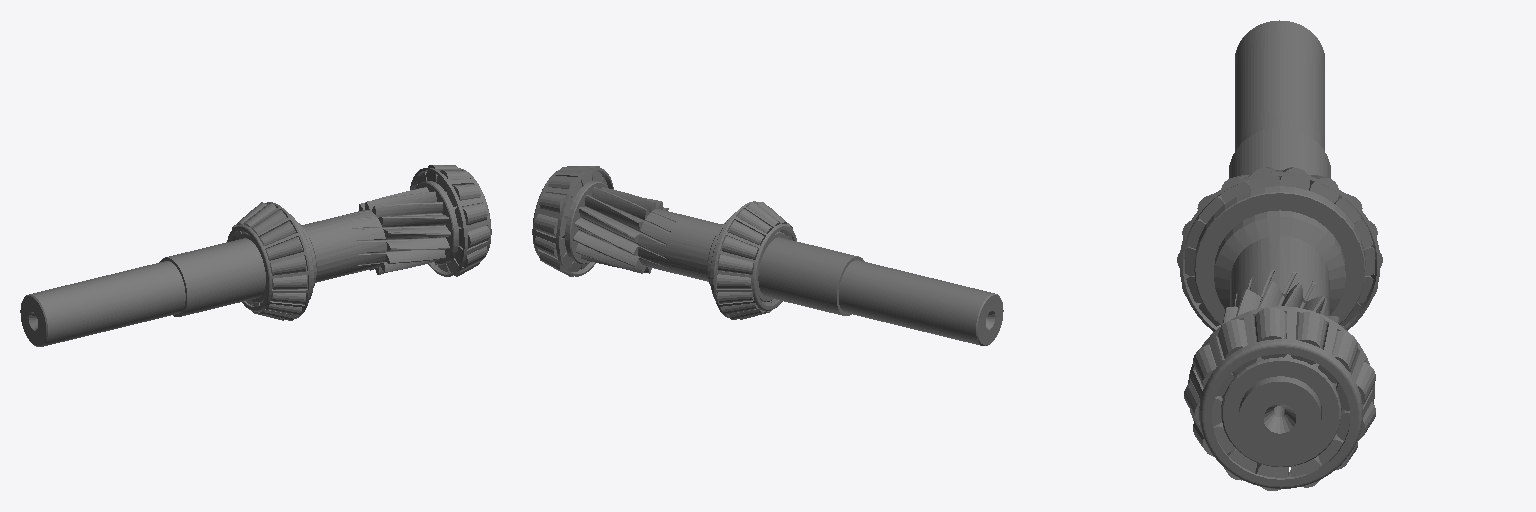
URDF robot description (shaft):
<?xml version="0.0" ?>
<robot name="shaft">
  <link name="shaft_link">
    <inertial>
      <mass value="0.4"/>
      <inertia ixx="0.1" ixy="0.0" ixz="0.0" iyy="0.1" iyz="0.0" izz="0.1"/>
    </inertial>
    <visual>
      <origin rpy="0 0 0" xyz="0 0 0"/>
      <geometry>
        <mesh filename="shaft.stl"/>
      </geometry>
      <material name="white">
        <color rgba="0.5 0.5 0.5 1"/>
      </material>
    </visual>
    <collision>
      <origin rpy="0 0 0" xyz="0 0 0"/>
      <geometry>
	 	    <mesh filename="shaft.stl"/>
      </geometry>
    </collision>
  </link>
</robot>

--- Facts derived from the render (not from the file) ---
Views: 3 orthographic renders of the robot side by side, from view 1: azimuth 30°, elevation 25°; view 2: azimuth 150°, elevation 25°; view 3: azimuth 270°, elevation 25°.
Robot: shaft — 1 links, 0 joints (none); root link shaft_link; default pose: every joint at zero.
Links seen in each view (by area): view 1: shaft_link; view 2: shaft_link; view 3: shaft_link.
Boxes of the visible links, x1,y1,x2,y2 form: shaft_link: (20,165,491,346); shaft_link: (532,166,1003,345); shaft_link: (1177,20,1382,490).
Bounding box of the posed robot: 0.205 × 0.0498 × 0.0491 m (x, y, z).
Meshes: 1 distinct files referenced, 1 mesh visuals loaded (1 binary STL).